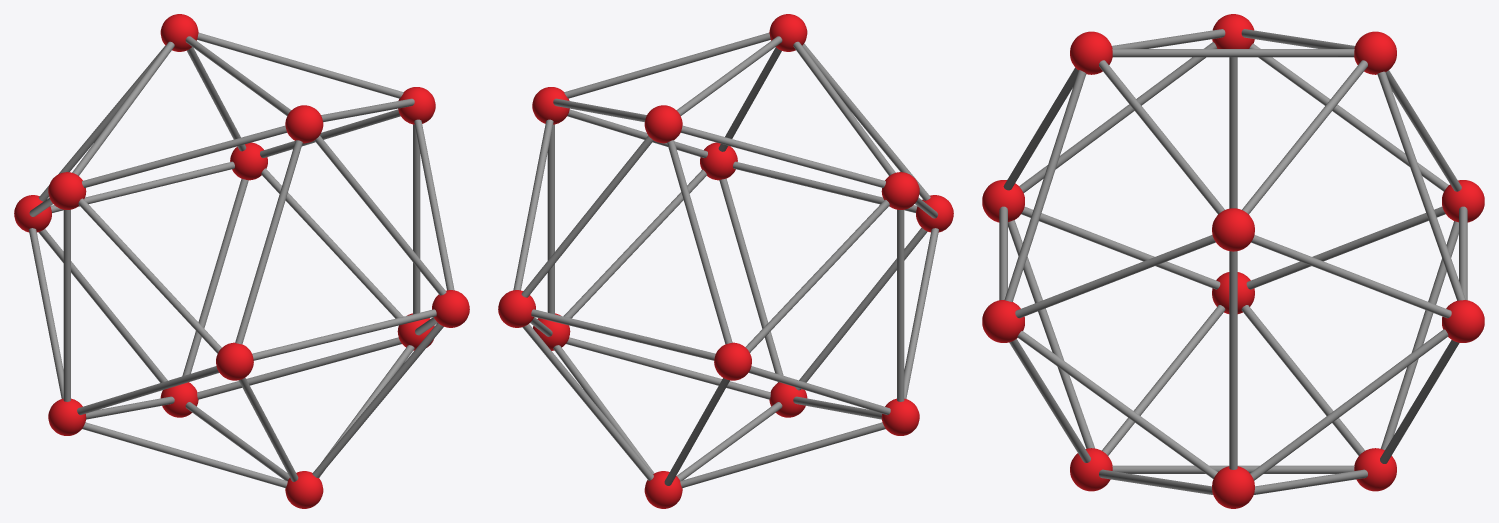
3 renders of one model, left to right at view 1: azimuth 30°, elevation 25°; view 2: azimuth 150°, elevation 25°; view 3: azimuth 270°, elevation 25°, orthographic. The views are drawn at different scales.
Parts seen in each view (by area): view 1: Цилиндр_Node (×28), Сферы_Node (×12); view 2: Цилиндр_Node (×28), Сферы_Node (×12); view 3: Цилиндр_Node (×30), Сферы_Node (×12).
Boxes of the visible parts, x1=… form: Цилиндр_Node (×28): x1=29, y1=32, x2=454, y2=488; Сферы_Node (×12): x1=14, y1=14, x2=469, y2=508; Цилиндр_Node (×28): x1=513, y1=32, x2=938, y2=488; Сферы_Node (×12): x1=498, y1=14, x2=953, y2=508; Цилиндр_Node (×30): x1=999, y1=29, x2=1467, y2=494; Сферы_Node (×12): x1=982, y1=14, x2=1484, y2=508.
Bounding box in the file's own units: 6.97 × 6.97 × 6.96.
Materials: 32 (1 with a texture image).
